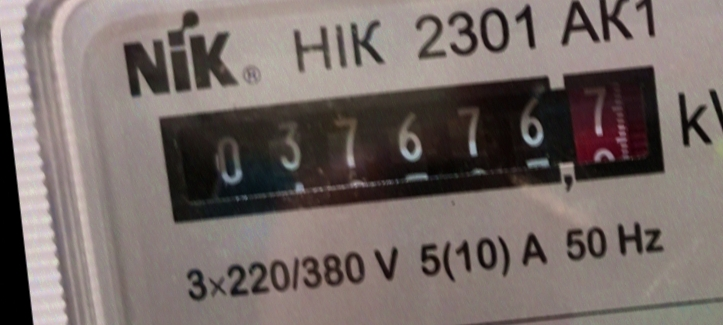0: (208, 129, 248, 188)
3: (270, 115, 304, 174)
6: (389, 106, 427, 163), (512, 92, 548, 149)
7: (451, 101, 488, 162), (328, 111, 365, 171), (579, 81, 613, 139)
screen: (141, 42, 682, 247)
